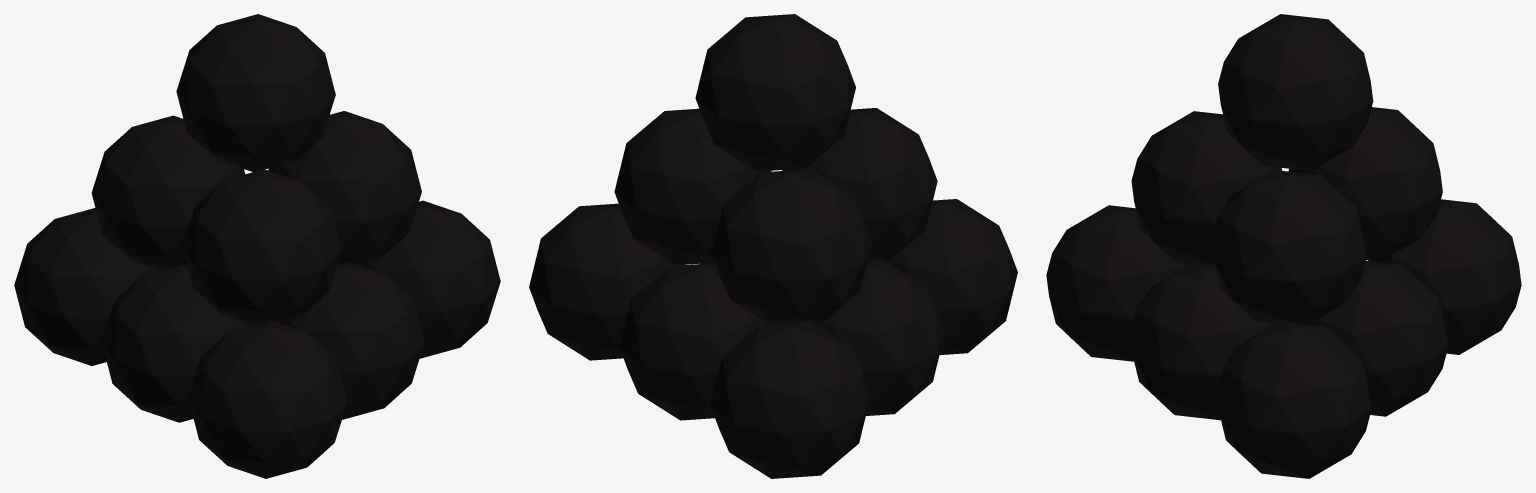
File: Canonball_1.fbx
3 renders of one model, left to right at view 1: azimuth 30°, elevation 25°; view 2: azimuth 150°, elevation 25°; view 3: azimuth 270°, elevation 25°, orthographic.
Visible parts, largest first — view 1: Canonball_1; view 2: Canonball_1; view 3: Canonball_1.
Boxes of the visible parts, bbox=[...] form: Canonball_1: bbox=[14, 14, 500, 478]; Canonball_1: bbox=[529, 14, 1017, 478]; Canonball_1: bbox=[1046, 14, 1521, 478].
Bounding box in the file's own units: 45.48 × 41.24 × 47.64.
